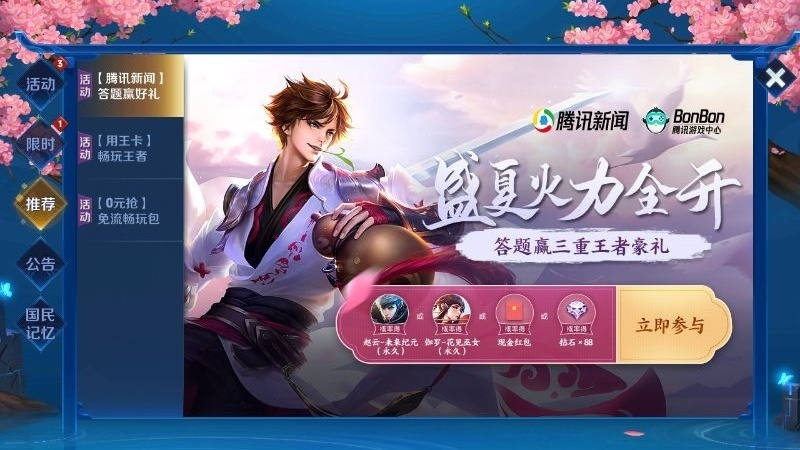close: (760, 61, 788, 90)
tag: (96, 187, 164, 232), (95, 125, 158, 168), (22, 305, 60, 343), (22, 129, 57, 156), (24, 250, 56, 278), (23, 72, 57, 97)
